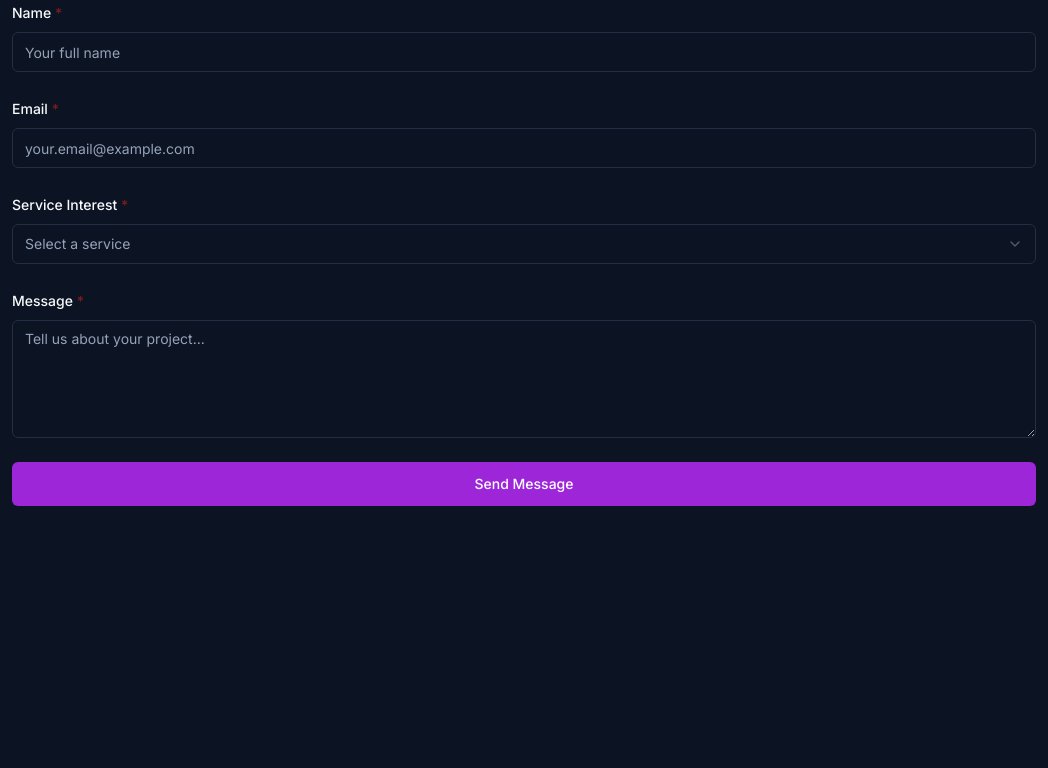
Test: ContactForm › Error Message Display › displays error when email is invalid
This screenshot has width=1048, height=768.
Type "invalid-email" into the field labelled "Email *".
click(524, 148); type("invalid-email")  # box [12,128,1036,168]
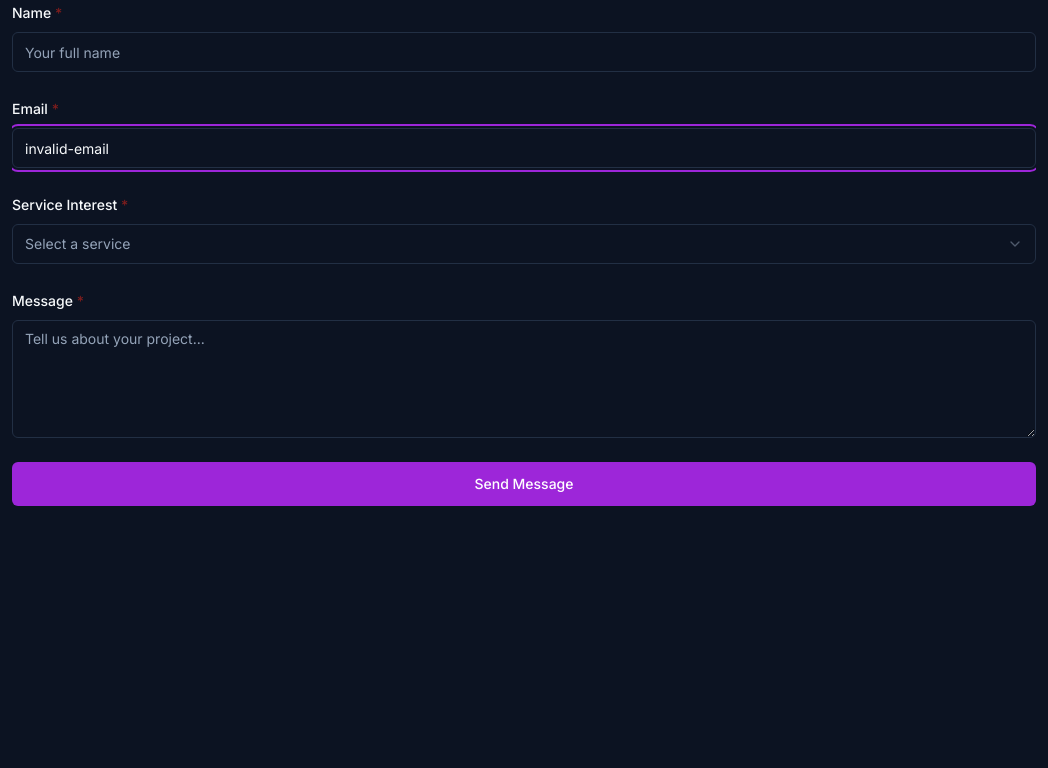
Press Tab
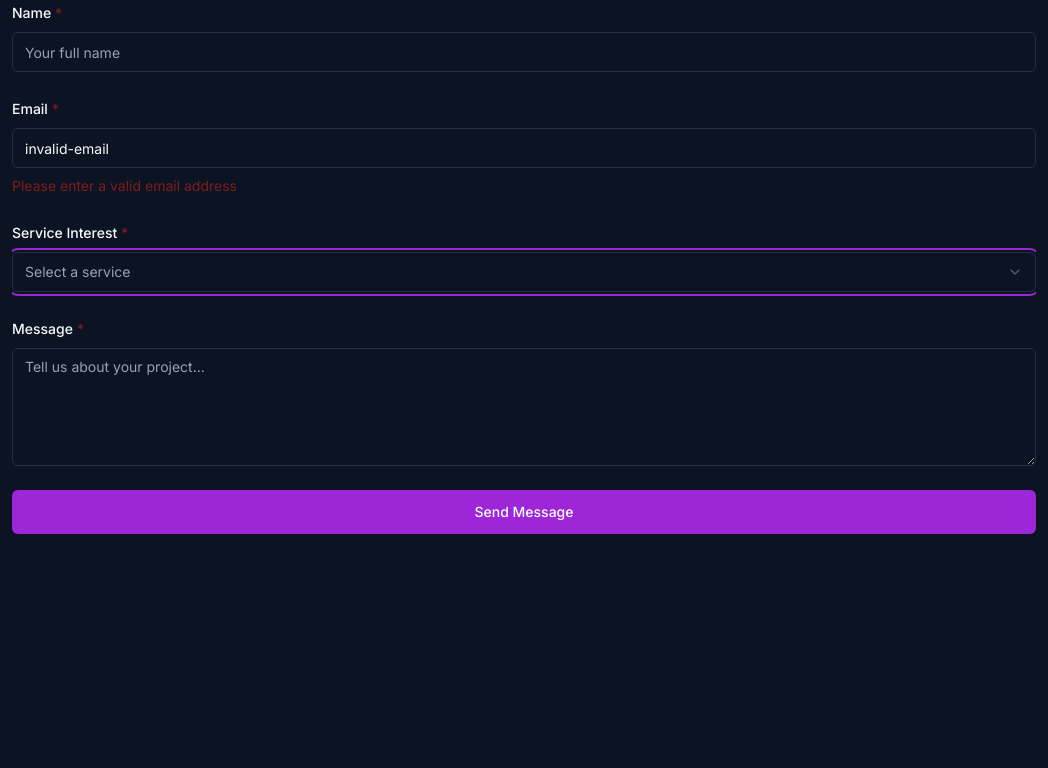
Now the text "Please enter a valid email address" is shown, box [12,177,237,194]
